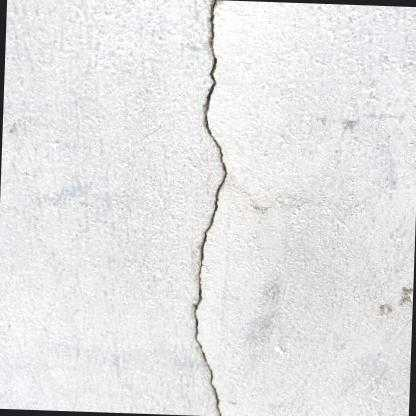crack: (194, 0, 227, 416)
